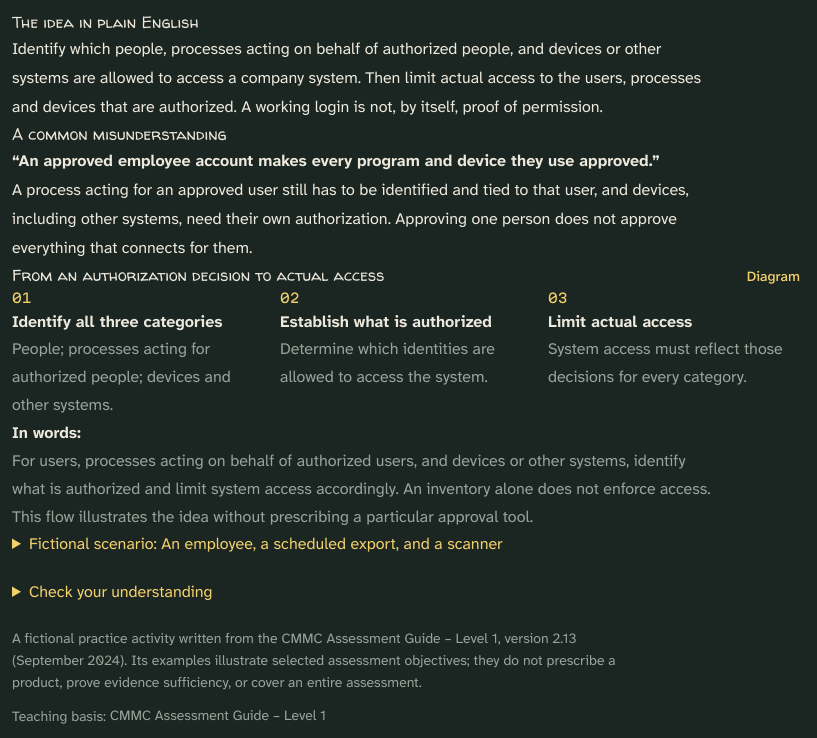
Test: Level 1 learning coverage › shows understandable draft source context and a text-equivalent diagram for level-one-authorized-access
(page scrolled)
Expected: the text "Identify which people, processes acting on behalf of authorized people, and devices or other systems are allowed to acce" is shown, [12, 38, 701, 117]
Expected: the text "A process acting for an approved user still has to be identified and tied to that user, and devices, including other sys" is shown, [12, 179, 689, 258]
Click the heading that starts with "Fictional scenario:": [266, 543] box [29, 532, 503, 554]
(page scrolled)
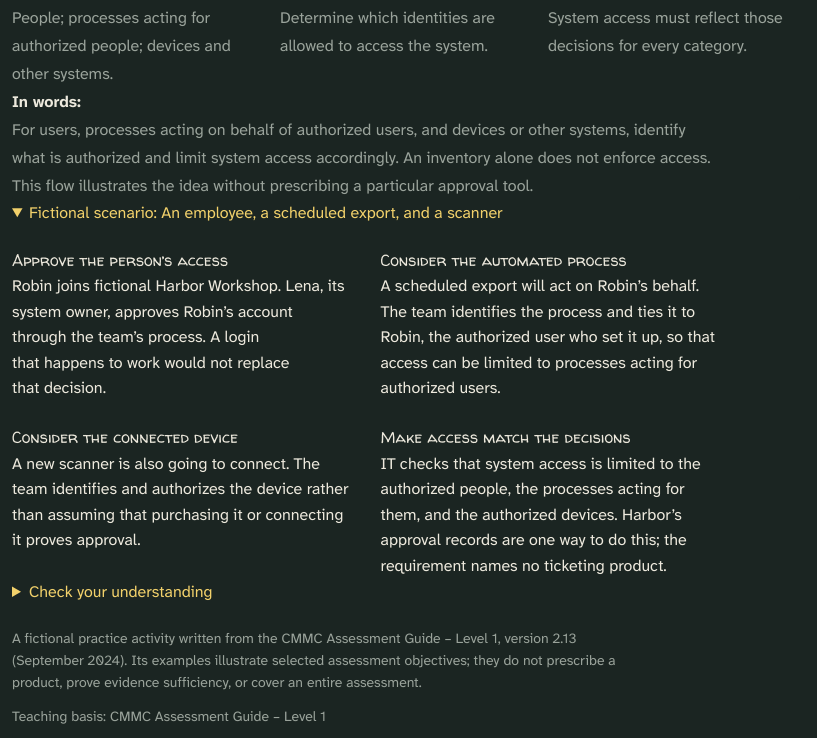
Result: the text "Robin joins fictional Harbor Workshop. Lena, its system owner, approves Robin’s account through the team’s process. A lo" is shown at [12, 275, 345, 398]
Result: the text "A scheduled export will act on Robin’s behalf. The team identifies the process and ties it to Robin, the authorized user" is shown at [380, 275, 715, 398]
Result: the text "A new scanner is also going to connect. The team identifies and authorizes the device rather than assuming that purchasi" is shown at [12, 453, 348, 550]
